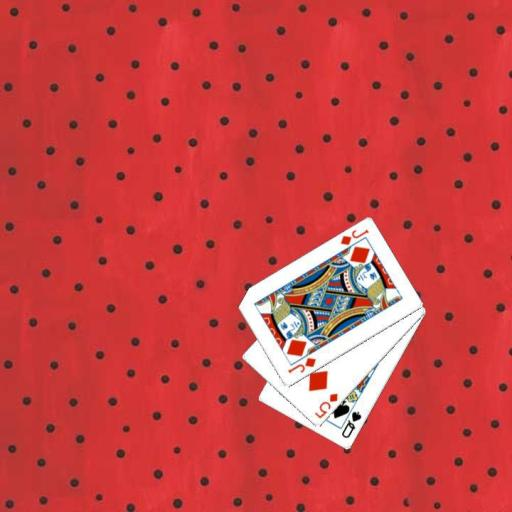5D: (312, 391, 339, 421)
JD: (285, 354, 317, 376), (337, 226, 370, 247)
QS: (339, 408, 363, 440)
